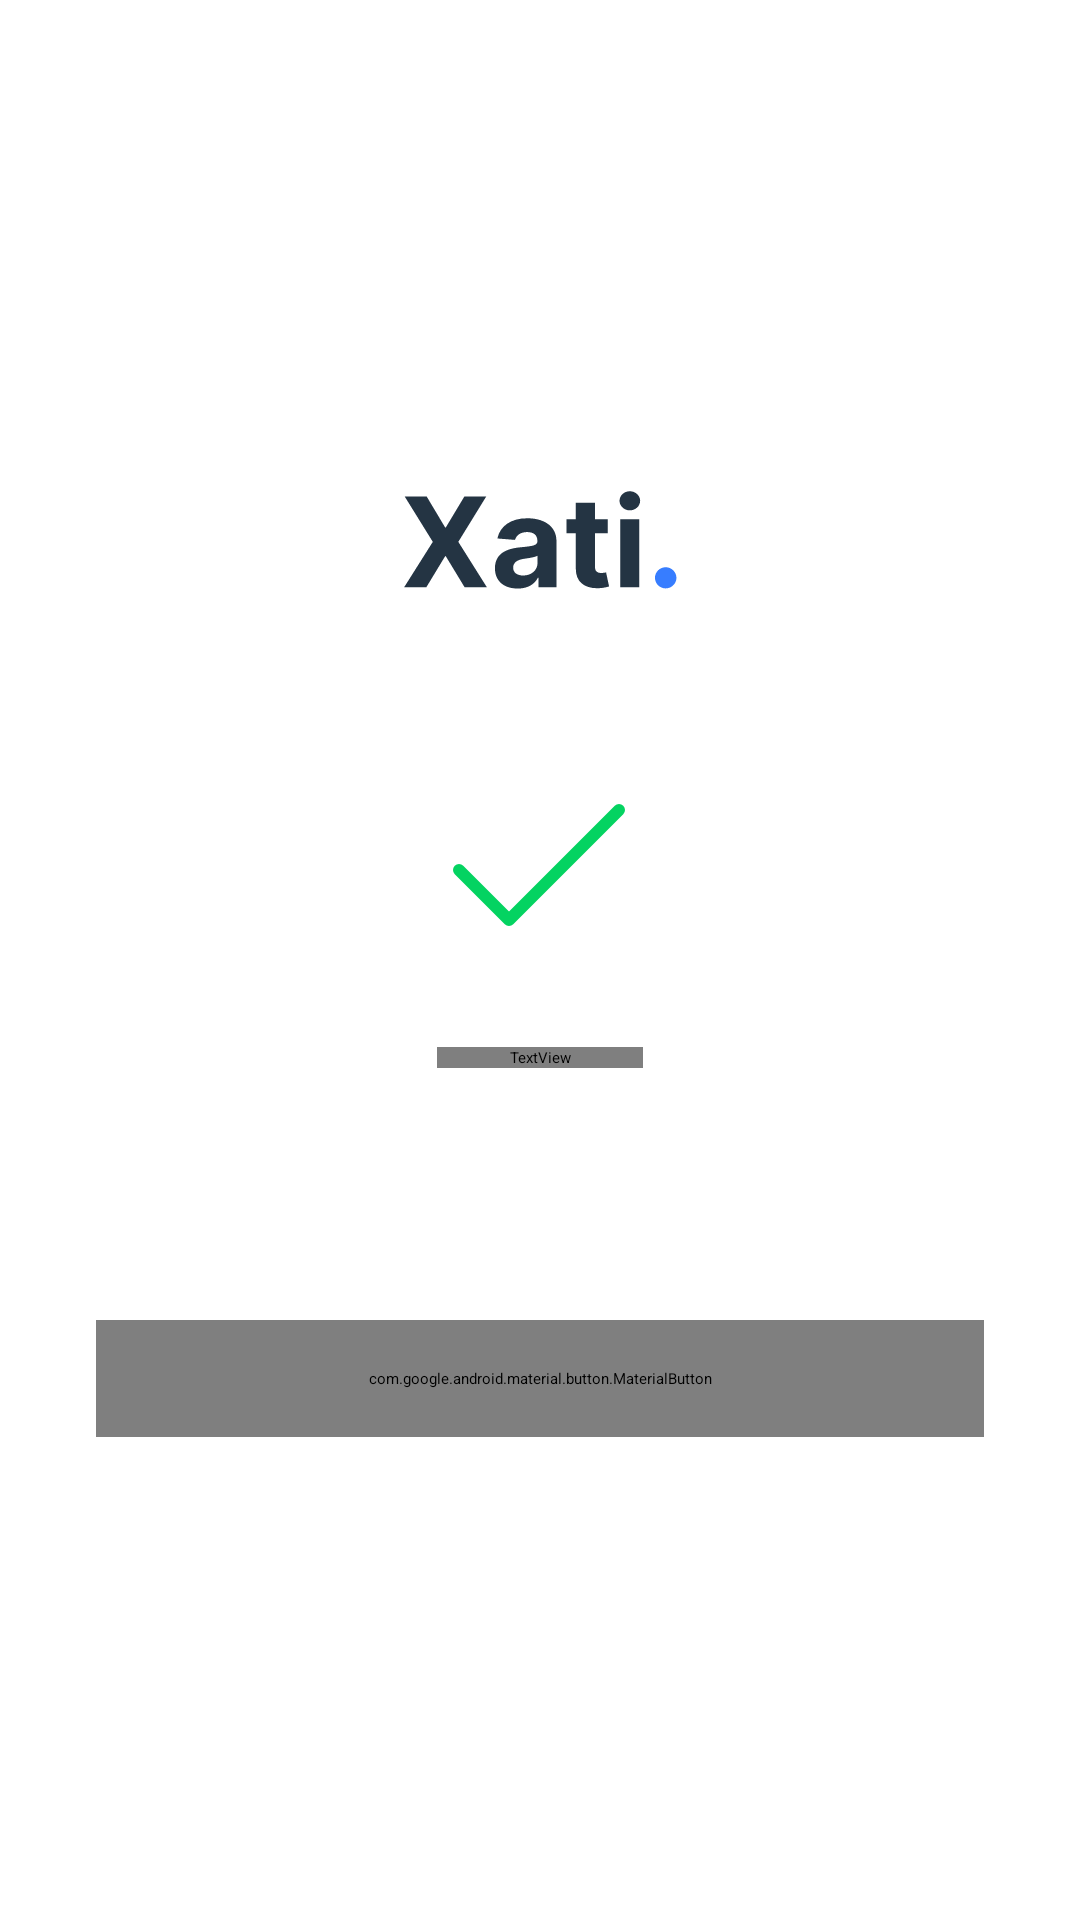

Named icons in this screenshot (1080 × 1920) and their centers, [x,y]:
Check icon: [539,865]
